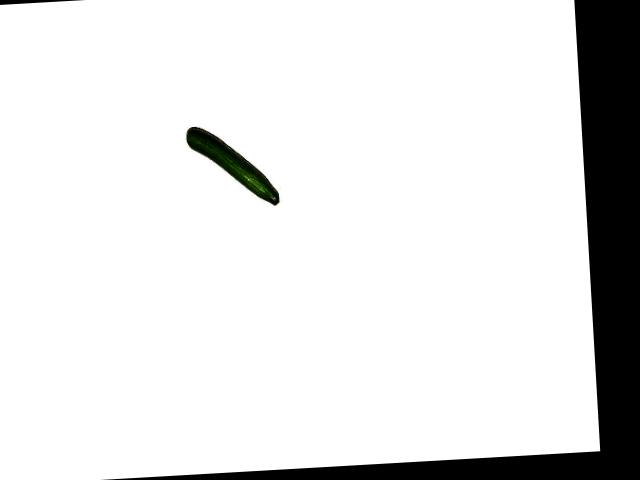cucumber: (185, 122, 279, 209)
